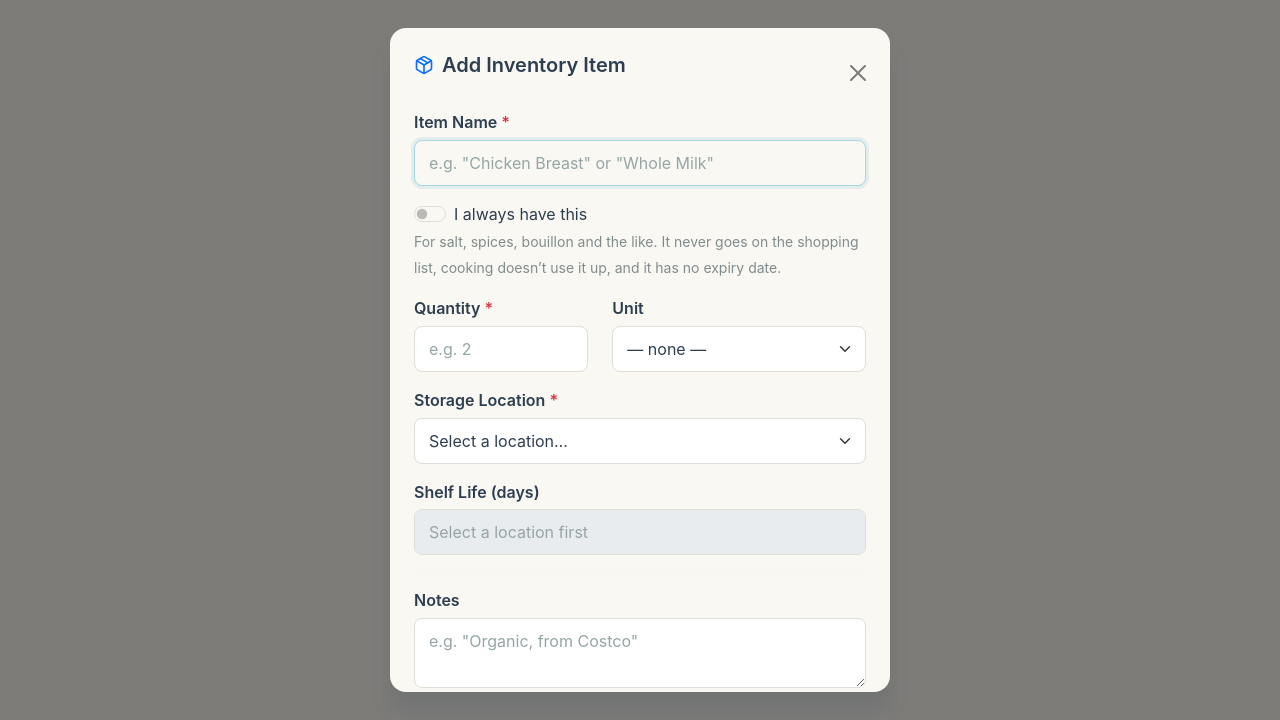
AddItemModal shelf life › follows a rename to a different ingredient
The width and height of the screenshot is (1280, 720).
Select "🧊 Main Fridge (fridge)" in the dropdown labelled "Storage Location *" at (640,441), box [414,418,866,464]
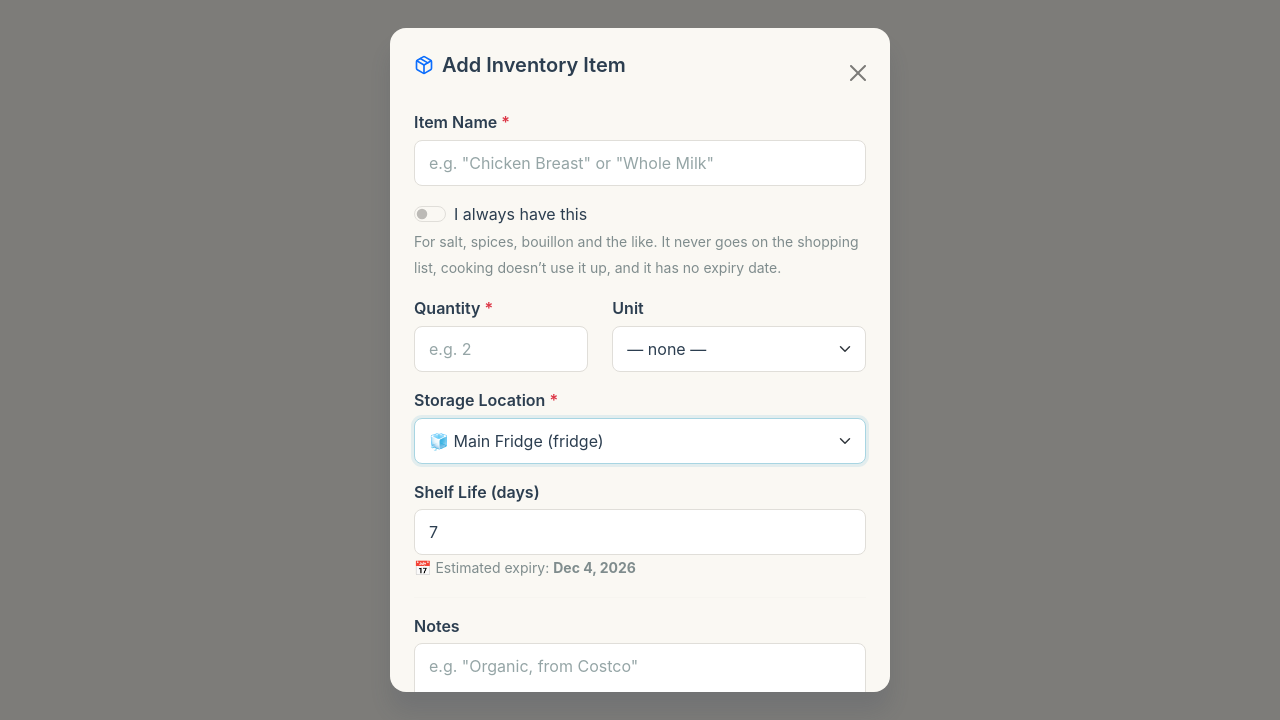
Type "Cheese" into the field with placeholder "e.g. \"Chicken Breast\" or \"Whole Milk\"".
click(640, 163); type("Cheese")  # box [414,140,866,186]
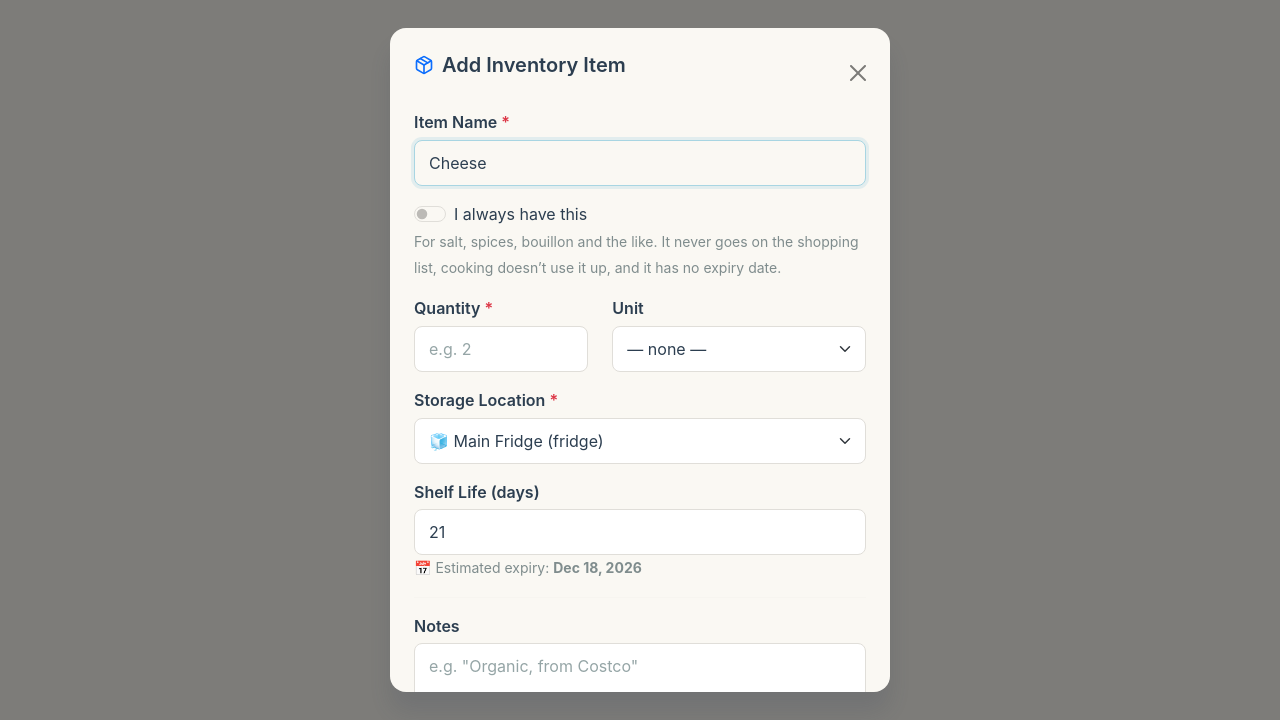
Check: the number field labelled "Shelf Life (days)" holds "21", box [414,509,866,555]
